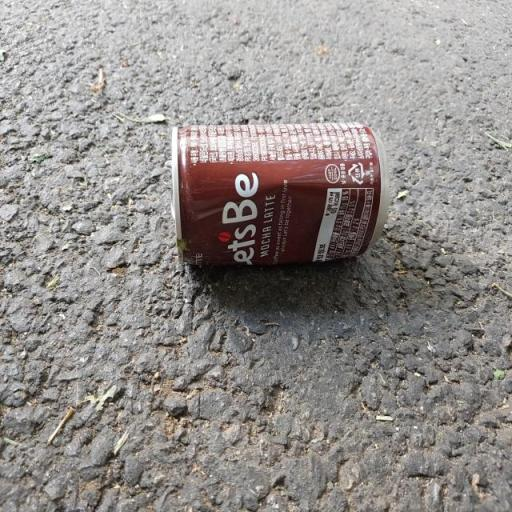metal: (149, 110, 408, 301)
